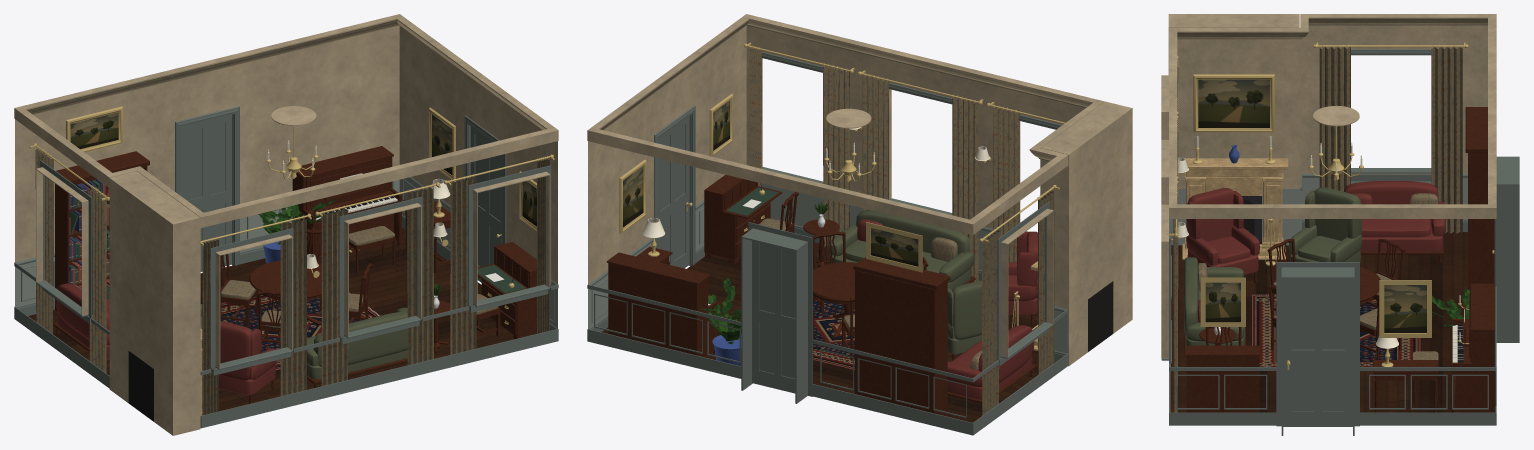
File: room_seance.gltf
3 renders of one model, left to right at view 1: azimuth 30°, elevation 25°; view 2: azimuth 150°, elevation 25°; view 3: azimuth 270°, elevation 25°, orthographic. The views are drawn at different scales.
Parts seen in each view (by area): view 1: 客厅·墙面、地面与线脚, 客厅·烟囱墙-col, 客厅·立式钢琴-col, 客厅·通走廊的门, 客厅·书柜-col, 客厅·写字台-col, 客厅·绿丝绒沙发-col, 客厅·壁炉前扶手椅（酒红）-col, 客厅·通门厅的门, 客厅·书柜上方油画, 客厅·地毯, 客厅·窗下酒红沙发-col (+10 smaller); view 2: 客厅·墙面、地面与线脚, 客厅·烟囱墙-col, 客厅·书柜-col, 客厅·立式钢琴-col, 客厅·通走廊的门, 客厅·绿丝绒沙发-col, 客厅·写字台-col, 客厅·通门厅的门, 客厅·窗下酒红沙发-col, 客厅·壁炉前扶手椅（橄榄绿）-col, 客厅·壁炉前扶手椅（酒红）-col, 客厅·书柜上方油画 (+10 smaller); view 3: 客厅·墙面、地面与线脚, 客厅·通门厅的门, 客厅·壁炉-col, 客厅·窗下酒红沙发-col, 客厅·壁炉上的油画, 客厅·立式钢琴-col, 客厅·写字台-col, 客厅·壁炉前扶手椅（酒红）-col, 客厅·书柜-col, 客厅·壁炉前扶手椅（橄榄绿）-col, 客厅·东墙油画, 客厅·地毯 (+13 smaller).
Part boxes in pixels (x1,y1,x2,y2): 客厅·墙面、地面与线脚: (14,14,558,428); 客厅·烟囱墙-col: (109,171,200,435); 客厅·立式钢琴-col: (292,146,401,261); 客厅·通走廊的门: (181,114,232,271); 客厅·书柜-col: (55,151,149,311); 客厅·写字台-col: (477,242,536,339); 客厅·绿丝绒沙发-col: (307,307,407,388); 客厅·壁炉前扶手椅（酒红）-col: (219,320,276,403); 客厅·通门厅的门: (470,126,501,282); 客厅·书柜上方油画: (66,106,122,156); 客厅·地毯: (221,293,379,369); 客厅·窗下酒红沙发-col: (53,283,109,367); 客厅·墙面、地面与线脚: (587,14,1104,435); 客厅·烟囱墙-col: (1041,101,1132,366); 客厅·书柜-col: (853,257,950,416); 客厅·立式钢琴-col: (606,252,717,357); 客厅·通走廊的门: (752,240,795,393); 客厅·绿丝绒沙发-col: (828,210,975,289); 客厅·写字台-col: (704,174,782,264); 客厅·通门厅的门: (658,116,692,268); 客厅·窗下酒红沙发-col: (947,325,1036,403); 客厅·壁炉前扶手椅（橄榄绿）-col: (947,280,981,360); 客厅·壁炉前扶手椅（酒红）-col: (1008,231,1037,325); 客厅·书柜上方油画: (866,222,922,272); 客厅·墙面、地面与线脚: (1161,14,1519,435); 客厅·通门厅的门: (1283,278,1352,426); 客厅·壁炉-col: (1182,158,1288,265); 客厅·窗下酒红沙发-col: (1344,181,1445,262); 客厅·壁炉上的油画: (1193,74,1274,132); 客厅·立式钢琴-col: (1451,283,1494,412); 客厅·写字台-col: (1186,345,1259,412); 客厅·壁炉前扶手椅（酒红）-col: (1186,188,1259,283); 客厅·书柜-col: (1465,107,1494,290); 客厅·壁炉前扶手椅（橄榄绿）-col: (1288,187,1362,262); 客厅·东墙油画: (1379,280,1431,337); 客厅·地毯: (1252,294,1420,366).
Bounding box in the file's own units: 6.71 × 3.3 × 4.91.
Materials: 38 (13 with a texture image).
